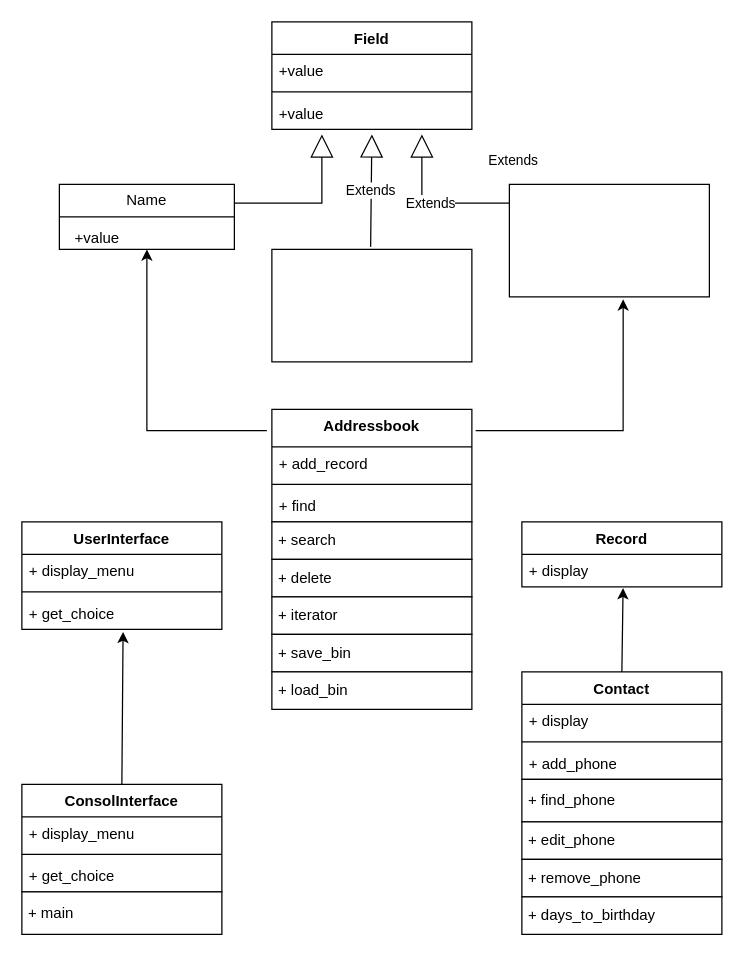
The diagram is 744 pixels wide and 956 high, and some of its shapes have lost their labels. The centre of each missing label's shape, as x and y in pixels:
"Birthday + value + validate_b" belongs at (371,305).
"Phone + value + validate" belongs at (608,240).
